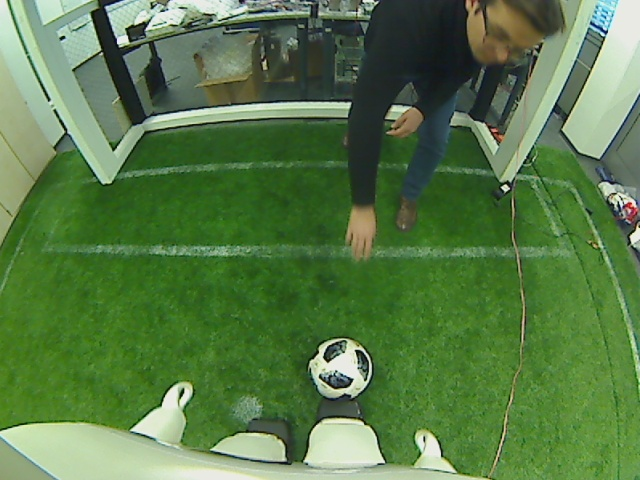ball: (303, 335, 375, 404)
